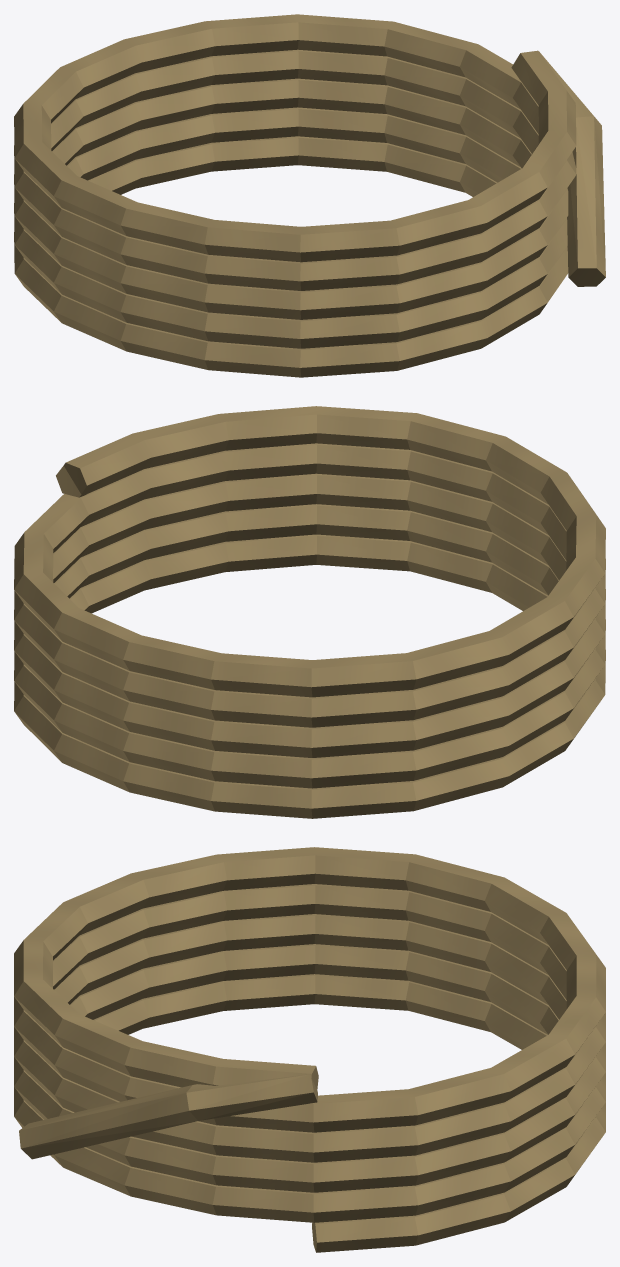
The model's file is WarrensC_CCS71_RopeCoil_Mars_SM.fbx.
3 renders of one model, top to bottom at view 1: azimuth 30°, elevation 25°; view 2: azimuth 150°, elevation 25°; view 3: azimuth 270°, elevation 25°, orthographic. The views are drawn at different scales.
Visible parts, largest first — view 1: WarrensC_CCS71_RopeCoil_Mars_SM.001; view 2: WarrensC_CCS71_RopeCoil_Mars_SM.001; view 3: WarrensC_CCS71_RopeCoil_Mars_SM.001.
Boxes of the visible parts, box(x1,y1,x2,y2) form: WarrensC_CCS71_RopeCoil_Mars_SM.001: box(14, 14, 605, 377); WarrensC_CCS71_RopeCoil_Mars_SM.001: box(14, 406, 605, 818); WarrensC_CCS71_RopeCoil_Mars_SM.001: box(14, 847, 605, 1252).
Bounding box in the file's own units: 60 × 60 × 20.
